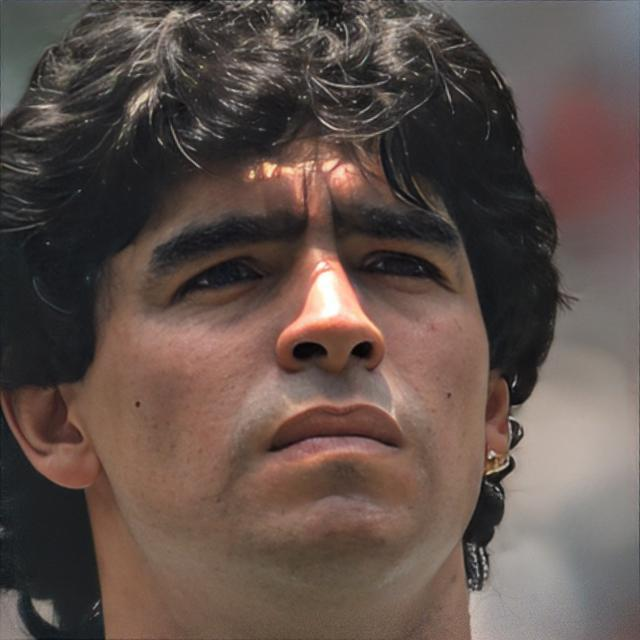anger: (88, 127, 494, 576)
